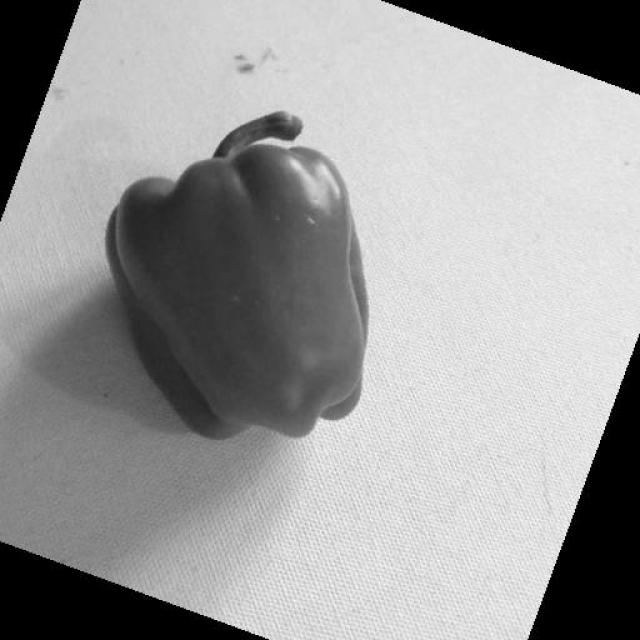Fresh_Capsicum: (95, 120, 368, 453)
